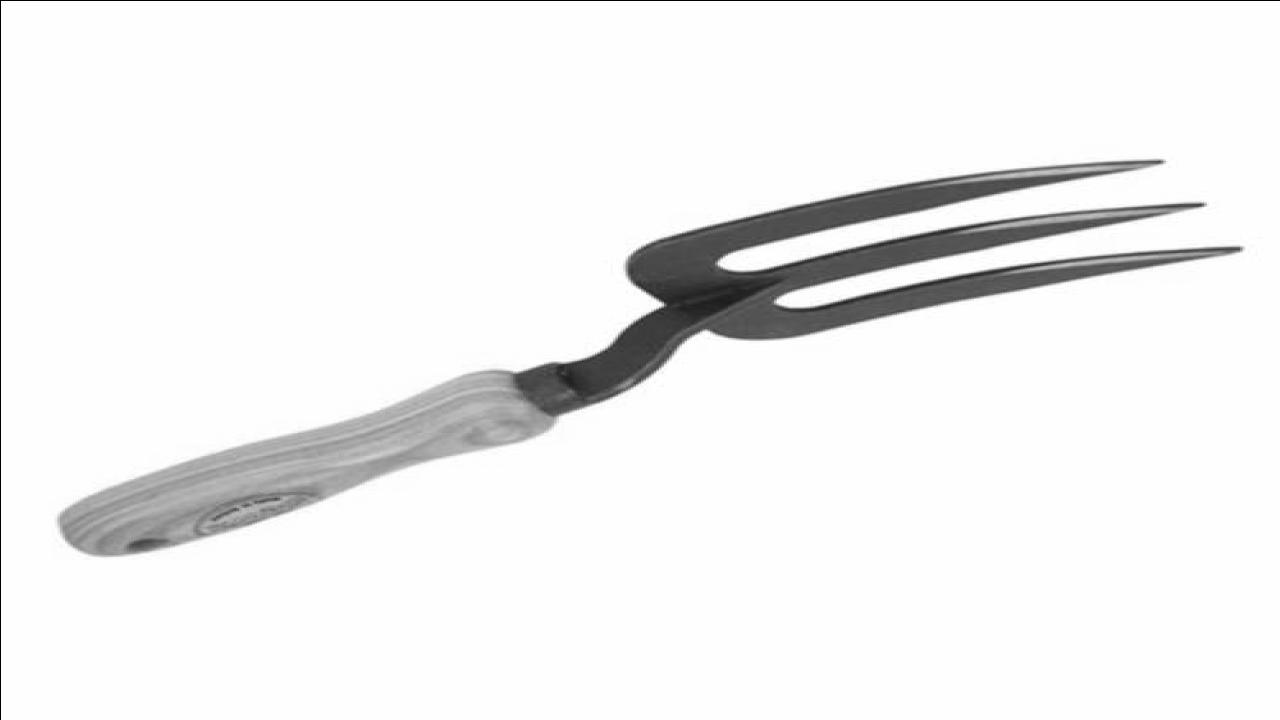fork: (56, 158, 1244, 560)
